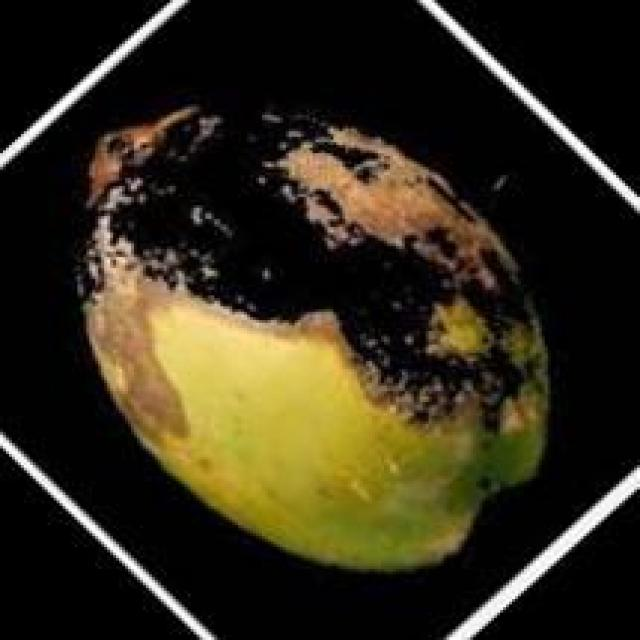damaged: (77, 98, 551, 577)
